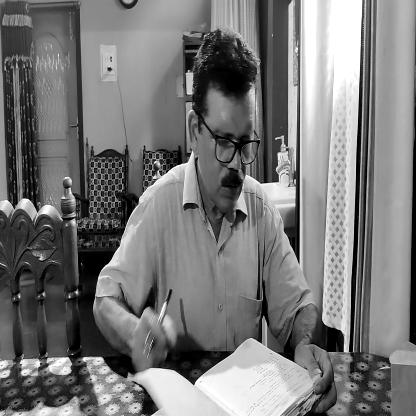Normal: (186, 33, 258, 223)
